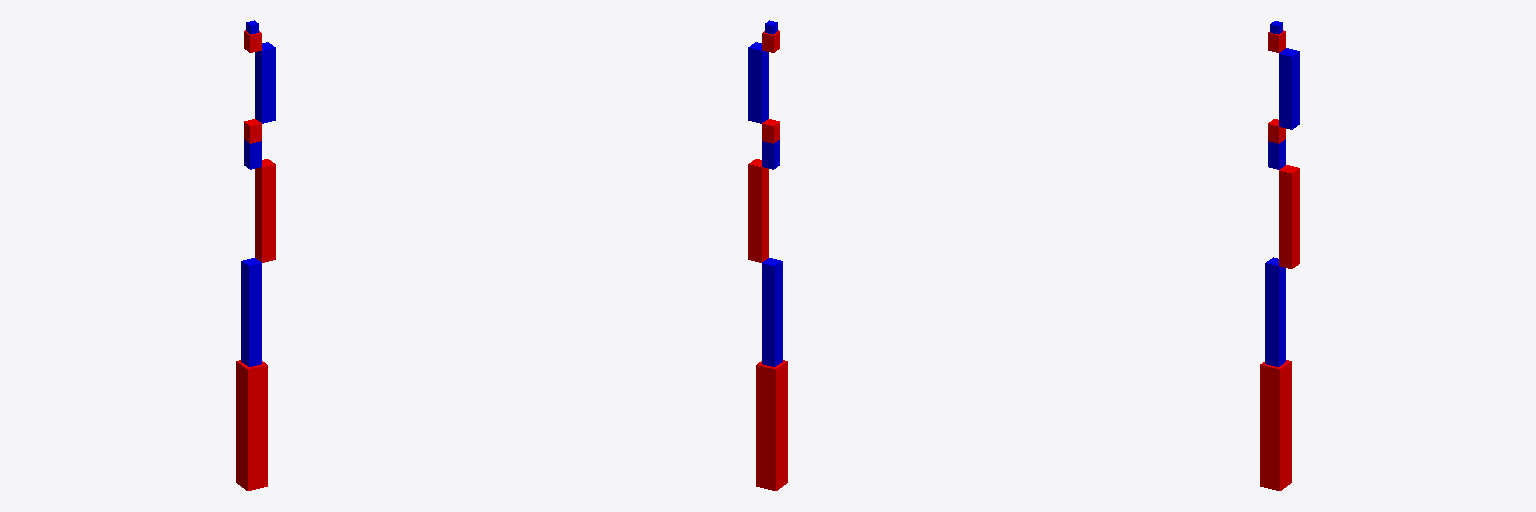
robot.urdf — armdemo:
<?xml version="1.0" ?>
<robot name="armdemo">

  <material name="red">
    <color rgba="1.0 0.0 0.0 1.0"/>
  </material>
  <material name="green">
    <color rgba="0.0 1.0 0.0 1.0"/>
  </material>
  <material name="blue">
    <color rgba="0.0 0.0 1.0 1.0"/>
  </material>

  <!-- base(world) -->
  <link name="base_link"/>
  
  <!-- base joint  -->
  <joint name="base_joint" type="fixed">
    <parent link="base_link"/>
    <child link="link1"/>
  </joint>
 
  <!-- Link1 link & joint -->
  <link name="link1">
    <collision>
      <origin rpy="0 0 0" xyz="0 0 0.35"/>
      <geometry>
        <box size="0.12 0.12 0.7"/>
      </geometry>
    </collision>
    <visual>
      <origin rpy="0 0 0" xyz="0 0 0.35"/>
      <geometry>
        <box size="0.12 0.12 0.7"/>
      </geometry>
      <material name="red"/>
    </visual>
    <inertial>
      <origin rpy="0 0 0" xyz="0 0 0"/>
      <mass value="50"/>
      <inertia ixx="0" ixy="0.1" ixz="0.0" iyy="1" iyz="0.0" izz="0.1"/>
    </inertial>
  </link>
   <joint name="joint1" type="revolute">
    <parent link="link1"/>
    <child link="link2"/>
    <origin rpy="0 0 0" xyz="0 0 0.7"/>
   
    <axis xyz="0 0 1"/>
    <dynamics damping="0.05"/>
    <limit effort="30" lower="-3" upper="3" velocity="2"/>
  </joint>
  
  <!-- Link2 link & joint -->
  <link name="link2">
    <collision>
      <origin rpy="0 0 0" xyz="0 0 0.29"/>
      <geometry>
        <box size="0.08 0.08 0.58"/>
      </geometry>
    </collision>
    <visual>
      <origin rpy="0 0 0" xyz="0 0 0.29"/>
      <geometry>
        <box size="0.08 0.08 0.58"/>
      </geometry>
      <material name="blue"/>
    </visual>
    <inertial>
      <origin rpy="0 0 0" xyz="0 0 0.1"/>
      <mass value="0.1"/>
      <inertia ixx="0.01" ixy="0.0" ixz="0.0" iyy="0.01" iyz="0.0" izz="0.01"/>
    </inertial>
  </link>
  <!-- joint2 -->
  <joint name="joint2" type="revolute">
    <parent link="link2"/>
    <child link="link3"/>
    <origin rpy="0 0 0" xyz="0.08 0 0.58"/>
   
    <axis xyz="1 0 0"/>
    <dynamics damping="0.05"/>
    <limit effort="30" lower="-1.6" upper="1.6" velocity="2"/>
  </joint>
  
  <!-- Link3 link & joint -->
 
  <link name="link3">
    <collision>
      <origin rpy="0 0 0" xyz="0 0 0.275"/>
      <geometry>
        <box size="0.08 0.08 0.55"/>
      </geometry>
    </collision>
    <visual>
      <origin rpy="0 0 0" xyz="0 0 0.275"/>
      <geometry>
        <box size="0.08 0.08 0.55"/>
      </geometry>
      <material name="red"/>
    </visual>
    <inertial>
      <origin rpy="0 0 0" xyz="0 0 0.1"/>
      <mass value="0.1"/>
       <inertia ixx="0.01" ixy="0.0" ixz="0.0" iyy="0.01" iyz="0.0" izz="0.01"/>
    </inertial>
  </link>
  <!-- joint3 -->
  <joint name="joint3" type="revolute">
    <parent link="link3"/>
    <child link="link4"/>
    <origin rpy="0 0 0" xyz="-0.075 0 0.55"/>

    <axis xyz="1 0 0"/>
    <dynamics damping="0.1"/>
    <limit effort="30" lower="-3" upper="3" velocity="2"/>
  </joint>

  <!-- Link4 link & joint -->
 
  <link name="link4">
    <collision>
      <origin rpy="0 0 0" xyz="0 0 0.075"/>
      <geometry>
        <box size="0.07 0.07 0.15"/>
      </geometry>
    </collision>
    <visual>
      <origin rpy="0 0 0" xyz="0 0 0.075"/>
      <geometry>
        <box size="0.07 0.07 0.15"/>
      </geometry>
      <material name="blue"/>
    </visual>
    <inertial>
      <origin rpy="0 0 0" xyz="0 0 0.1"/>
      <mass value="0.1"/>
       <inertia ixx="0.01" ixy="0.0" ixz="0.0" iyy="0.01" iyz="0.0" izz="0.01"/>
    </inertial>
  </link>
  <joint name="joint4" type="revolute">
    <parent link="link4"/>
    <child link="link5"/>
    <origin rpy="0 0 0" xyz="0 0 0.15"/>
 
    <axis xyz="0 0 1"/>
    <dynamics damping="0.1"/>
    <limit effort="30" lower="-3" upper="3" velocity="2"/>
  </joint>

  <!-- Link5 link & joint -->
  <link name="link5">
        <collision>
      <origin rpy="0 0 0" xyz="0 0 0.05"/>
      <geometry>
        <box size="0.07 0.07 0.1"/>
      </geometry>
    </collision>
    <visual>
      <origin rpy="0 0 0" xyz="0 0 0.05"/>
      <geometry>
        <box size="0.07 0.07 0.1"/>
      </geometry>
      <material name="red"/>
    </visual>
    <inertial>
      <origin rpy="0 0 0" xyz="0 0 0.1"/>
      <mass value="0.1"/>
       <inertia ixx="0.01" ixy="0.0" ixz="0.0" iyy="0.01" iyz="0.0" izz="0.01"/>
    </inertial>
  </link>
  <joint name="joint5" type="revolute">
    <parent link="link5"/>
    <child link="link6"/>
    <origin rpy="0 0 0" xyz="0.075 0 0.1"/>
 
    <axis xyz="1 0 0"/>
    <dynamics damping="0.1"/>
    <limit effort="30" lower="-2.25" upper="2.25" velocity="2"/>
  </joint>
  
  <!-- Link6 link & joint -->
  
  <link name="link6">
    <collision>
      <origin rpy="0 0 0" xyz="0 0 0.21"/>
      <geometry>
        <box size="0.08 0.08 0.42"/>
      </geometry>
    </collision>
    <visual>
      <origin rpy="0 0 0" xyz="0 0 0.21"/>
      <geometry>
        <box size="0.08 0.08 0.42"/>
      </geometry>
      <material name="blue"/>
    </visual>
    <inertial>
      <origin rpy="0 0 0" xyz="0 0 0.1"/>
      <mass value="0.1"/>
       <inertia ixx="0.01" ixy="0.0" ixz="0.0" iyy="0.01" iyz="0.0" izz="0.01"/>
    </inertial>
  </link>
  <joint name="joint6" type="revolute">
    <parent link="link6"/>
    <child link="link7"/>
    <origin rpy="0 0 0" xyz="-0.075 0 0.42"/>
    <axis xyz="1 0 0"/>
    <dynamics damping="0.1"/>
    <limit effort="30" lower="-3" upper="3" velocity="2"/>
  </joint>

  <!-- Link7 link & joint -->
  <link name="link7">
    <collision>
      <origin rpy="0 0 0" xyz="0 0 0.05"/>
      <geometry>
        <box size="0.07 0.07 0.1"/>
      </geometry>
    </collision>
    <visual>
      <origin rpy="0 0 0" xyz="0 0 0.05"/>
      <geometry>
        <box size="0.07 0.07 0.1"/>
      </geometry>
      <material name="red"/>
    </visual>
    <inertial>
      <origin rpy="0 0 0" xyz="0 0 0.1"/>
      <mass value="0.1"/>
       <inertia ixx="0.01" ixy="0.0" ixz="0.0" iyy="0.01" iyz="0.0" izz="0.01"/>
    </inertial>
  </link>
  <joint name="joint7" type="revolute">
    <parent link="link7"/>
    <child link="link8"/>
    <origin rpy="0 0 0" xyz="0 0 0.1"/>
    <axis xyz="0 0 1"/>
    <dynamics damping="0.1"/>
    <limit effort="30" lower="-3" upper="3" velocity="2"/>
  </joint>

 <!-- Link8 (end effector)-->
  <link name="link8">
    <collision>
      <origin rpy="0 0 0" xyz="0 0 0.025"/>
      <geometry>
        <box size="0.05 0.05 0.05"/>
      </geometry>
    </collision>
    <visual>
      <origin rpy="0 0 0" xyz="0 0 0.025"/>
      <geometry>
        <box size="0.05 0.05 0.05"/>
      </geometry>
      <material name="blue"/>
    </visual>
    <inertial>
      <origin rpy="0 0 0" xyz="0 0 0.01"/>
      <mass value="0.1"/>
        <inertia ixx="0.01" ixy="0.0" ixz="0.0" iyy="0.01" iyz="0.0" izz="0.01"/>
    </inertial>
  </link>

  <transmission name="link1_trans">
    <type>transmission_interface/SimpleTransmission</type>
      <joint name="joint1">
      <hardwareInterface>hardware_interface/EffortJointInterface</hardwareInterface>
    </joint>
    <actuator name="link1_motor">
      <hardwareInterface>hardware_interface/EffortJointInterface</hardwareInterface>
      <mechanicalReduction>1</mechanicalReduction>
    </actuator>
  </transmission>
  <transmission name="link2_trans">
    <type>transmission_interface/SimpleTransmission</type>
      <joint name="joint2">
      <hardwareInterface>hardware_interface/EffortJointInterface</hardwareInterface>
    </joint>
    <actuator name="link2_motor">
      <hardwareInterface>hardware_interface/EffortJointInterface</hardwareInterface>
      <mechanicalReduction>1</mechanicalReduction>
    </actuator>
  </transmission>
  <transmission name="link3_trans">
    <type>transmission_interface/SimpleTransmission</type>
      <joint name="joint3">
      <hardwareInterface>hardware_interface/EffortJointInterface</hardwareInterface>
    </joint>
    <actuator name="link3_motor">
      <hardwareInterface>hardware_interface/EffortJointInterface</hardwareInterface>
      <mechanicalReduction>1</mechanicalReduction>
    </actuator>
  </transmission>
  <transmission name="link4_trans">
    <type>transmission_interface/SimpleTransmission</type>
      <joint name="joint4">
      <hardwareInterface>hardware_interface/EffortJointInterface</hardwareInterface>
    </joint>
    <actuator name="link4_motor">
      <hardwareInterface>hardware_interface/EffortJointInterface</hardwareInterface>
      <mechanicalReduction>1</mechanicalReduction>
    </actuator>
  </transmission>
  <transmission name="link5_trans">
    <type>transmission_interface/SimpleTransmission</type>
      <joint name="joint5">
      <hardwareInterface>hardware_interface/EffortJointInterface</hardwareInterface>
    </joint>
    <actuator name="link5_motor">
      <hardwareInterface>hardware_interface/EffortJointInterface</hardwareInterface>
      <mechanicalReduction>1</mechanicalReduction>
    </actuator>
  </transmission>
  <transmission name="link6_trans">
    <type>transmission_interface/SimpleTransmission</type>
      <joint name="joint6">
      <hardwareInterface>hardware_interface/EffortJointInterface</hardwareInterface>
    </joint>
    <actuator name="link6_motor">
      <hardwareInterface>hardware_interface/EffortJointInterface</hardwareInterface>
      <mechanicalReduction>1</mechanicalReduction>
    </actuator>
  </transmission>
  <transmission name="link7_trans">
    <type>transmission_interface/SimpleTransmission</type>
      <joint name="joint7">
      <hardwareInterface>hardware_interface/EffortJointInterface</hardwareInterface>
    </joint>
    <actuator name="link7_motor">
      <hardwareInterface>hardware_interface/EffortJointInterface</hardwareInterface>
      <mechanicalReduction>1</mechanicalReduction>
    </actuator>
  </transmission>
  <gazebo>
    <plugin name="gazebo_ros_control" filename="libgazebo_ros_control.so">
      <robotNamespace>/</robotNamespace>
      <robotSimType>gazebo_ros_control/DefaultRobotHWSim</robotSimType>
      <legacyModeNS>true</legacyModeNS>
    </plugin>
  </gazebo>

</robot>

--- Render facts (derived) ---
Views: 3 orthographic renders of the robot side by side, from view 1: azimuth 30°, elevation 25°; view 2: azimuth 150°, elevation 25°; view 3: azimuth 330°, elevation 25°.
Robot: armdemo — 9 links, 8 joints (7 revolute, 1 fixed); root link base_link; default pose: every joint at zero.
Visible links, largest first — view 1: link1, link2, link3, link6; view 2: link1, link2, link3, link6; view 3: link1, link2, link3, link6.
Boxes of the visible links, left/top/right/bottom form: link1: left=236, top=360, right=267, bottom=490; link2: left=241, top=258, right=261, bottom=366; link3: left=255, top=159, right=275, bottom=262; link6: left=255, top=42, right=275, bottom=123; link1: left=756, top=360, right=787, bottom=490; link2: left=762, top=258, right=782, bottom=366; link3: left=748, top=159, right=768, bottom=262; link6: left=748, top=42, right=768, bottom=123; link1: left=1260, top=360, right=1291, bottom=490; link2: left=1265, top=257, right=1285, bottom=366; link3: left=1279, top=165, right=1299, bottom=268; link6: left=1279, top=48, right=1299, bottom=129.
Size in the robot's own frame: 0.18 by 0.12 by 2.65 metres.
Geometry: primitives only (box / cylinder / sphere), no mesh files.